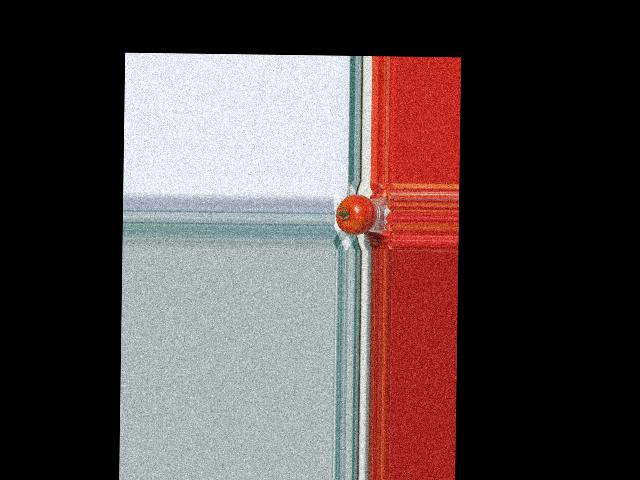tomato: (335, 193, 375, 235)
